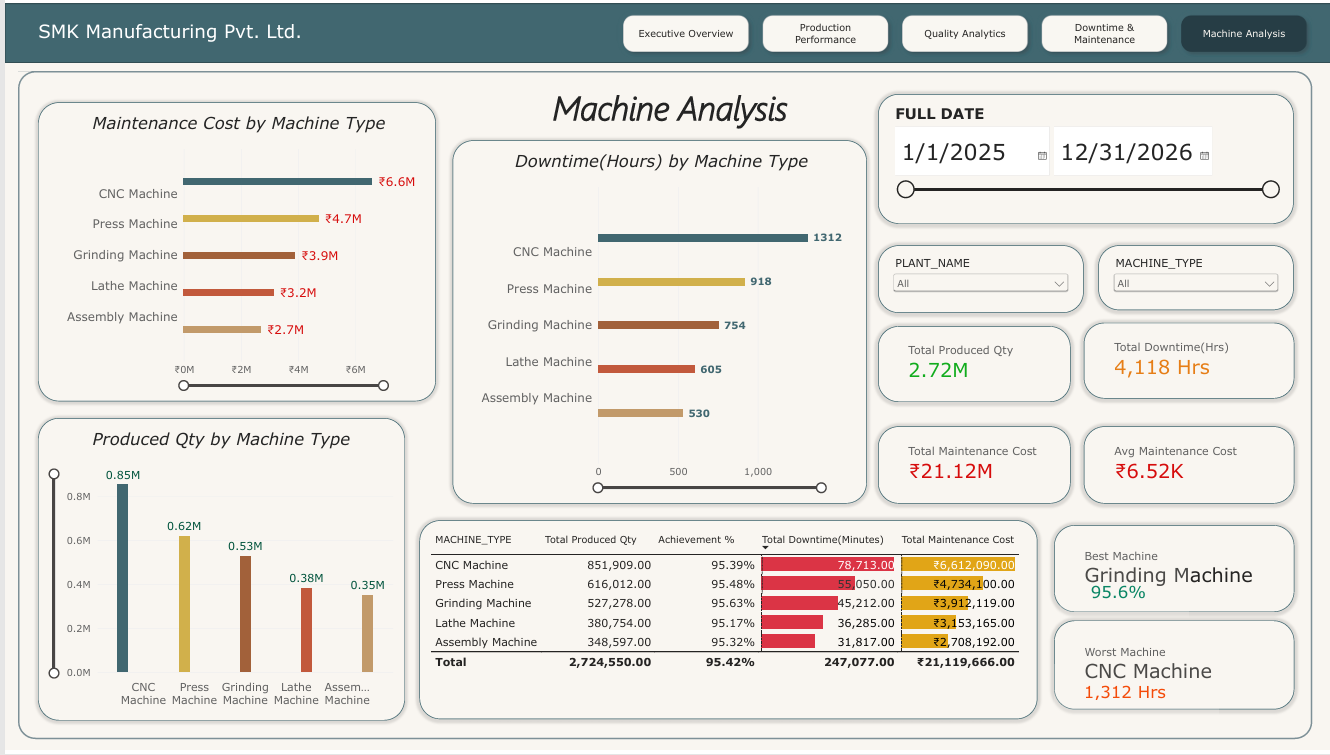

The dashboard page shown, as its layout file describes it:
{"tool":"powerbi","page":{"name":" Machine Analysis","canvas":[1920,1080],"ordinal":4},"visuals":[{"type":"shape","box":[19,97.6,1873.8,966.7],"z":500},{"type":"slicer","fields":{"Values":["DIM_PLANT.PLANT_NAME"]},"box":[1264.3,350,297.6,97.6],"z":1000},{"type":"slicer","fields":{"Values":["DIM_MACHINE.MACHINE_TYPE"]},"box":[1583.3,350,283,94.3],"z":2000},{"type":"cardVisual","fields":{"Data":["FACT_PRODUCTION.Best Machine"]},"box":[1519,754.8,347.6,126.2],"z":3000},{"type":"cardVisual","title":"Total Downtime (Minutes)","fields":{"Data":["FACT_DOWNTIME.Total Downtime(Hrs)"]},"box":[1561.9,461.9,304.8,109.5],"z":4000},{"type":"cardVisual","fields":{"Data":["FACT_MAINTENANCE.Total Maintenance Cost"]},"box":[1264.3,611.9,278.6,111.9],"z":5000},{"type":"clusteredBarChart","title":" Downtime(Hours) by Machine Type ","fields":{"Category":["DIM_MACHINE.MACHINE_TYPE"],"Series":["DIM_MACHINE.MACHINE_TYPE"],"Y":["FACT_DOWNTIME.Total Downtime Hrs measure"]},"box":[647.6,197.6,600,526.2],"z":6000},{"type":"clusteredColumnChart","title":"Produced Qty by Machine Type ","fields":{"Category":["DIM_MACHINE.MACHINE_TYPE"],"Series":["DIM_MACHINE.MACHINE_TYPE"],"Y":["FACT_PRODUCTION.Total Produced Qty"]},"box":[47.6,600,531,438.1],"z":7000},{"type":"clusteredBarChart","title":"Maintenance Cost by Machine Type  ","fields":{"Category":["DIM_MACHINE.MACHINE_TYPE"],"Series":["DIM_MACHINE.MACHINE_TYPE"],"Y":["FACT_MAINTENANCE.Total Maintenance Cost"]},"box":[47.6,142.9,576.2,433.3],"z":8000},{"type":"tableEx","fields":{"Values":["DIM_MACHINE.MACHINE_TYPE","FACT_PRODUCTION.Total Produced Qty","FACT_PRODUCTION.Achievement %","FACT_DOWNTIME.Total Downtime","FACT_MAINTENANCE.Total Maintenance Cost"]},"box":[600,747.6,895.2,288.1],"z":9000},{"type":"cardVisual","fields":{"Data":["FACT_PRODUCTION.Total Produced Qty"]},"box":[1264.3,466.7,278.6,109.5],"z":10000},{"type":"slicer","title":"DATE","fields":{"Values":["DIM_DATE.FULL_DATE"]},"box":[1264.3,131,602.4,188.1],"z":11000},{"type":"cardVisual","fields":{"Data":["FACT_MAINTENANCE.Average Maintenance Cost"]},"box":[1561.9,611.9,304.8,111.9],"z":12000},{"type":"textbox","box":[792.9,116.7,542.9,97.6],"z":15000},{"type":"cardVisual","fields":{"Data":["FACT_PRODUCTION.Best Machine Achievement"]},"box":[1528.6,811.9,185.7,81],"z":16000},{"type":"cardVisual","fields":{"Data":["FACT_DOWNTIME.Worst Machine"]},"box":[1519,892.9,347.6,128.6],"z":17000},{"type":"cardVisual","fields":{"Data":["FACT_DOWNTIME.Worst Machine Downtime Hrs Display"]},"box":[1519,957.1,238.1,78.6],"z":18000},{"type":"shape","box":[0,0,1920.4,85.7],"z":20000},{"type":"pageNavigator","box":[885.7,8.2,1008.2,71.4],"z":20500},{"type":"textbox","title":"smk manufacturing","box":[47.6,7.1,440.5,71.4],"z":21000}]}

Visuals, with their boxes in screenshot pixels (x1, y1, x2, y2), scaled from the page's 1920x1080 canvas onto the 1330x755 screenshot:
shape: BBox(13, 68, 1311, 744)
slicer - DIM_PLANT.PLANT_NAME: BBox(876, 245, 1082, 313)
slicer - DIM_MACHINE.MACHINE_TYPE: BBox(1097, 245, 1293, 311)
cardVisual - FACT_PRODUCTION.Best Machine: BBox(1052, 528, 1293, 616)
"Total Downtime (Minutes)" cardVisual: BBox(1082, 323, 1293, 399)
cardVisual - FACT_MAINTENANCE.Total Maintenance Cost: BBox(876, 428, 1069, 506)
" Downtime(Hours) by Machine Type " clusteredBarChart: BBox(449, 138, 864, 506)
"Produced Qty by Machine Type " clusteredColumnChart: BBox(33, 419, 401, 726)
"Maintenance Cost by Machine Type  " clusteredBarChart: BBox(33, 100, 432, 403)
tableEx - DIM_MACHINE.MACHINE_TYPE x FACT_PRODUCTION.Total Produced Qty: BBox(416, 523, 1036, 724)
cardVisual - FACT_PRODUCTION.Total Produced Qty: BBox(876, 326, 1069, 403)
"DATE" slicer: BBox(876, 92, 1293, 223)
cardVisual - FACT_MAINTENANCE.Average Maintenance Cost: BBox(1082, 428, 1293, 506)
textbox: BBox(549, 82, 925, 150)
cardVisual - FACT_PRODUCTION.Best Machine Achievement: BBox(1059, 568, 1188, 624)
cardVisual - FACT_DOWNTIME.Worst Machine: BBox(1052, 624, 1293, 714)
cardVisual - FACT_DOWNTIME.Worst Machine Downtime Hrs Display: BBox(1052, 669, 1217, 724)
shape: BBox(0, 0, 1329, 60)
pageNavigator: BBox(614, 6, 1312, 56)
"smk manufacturing" textbox: BBox(33, 5, 338, 55)
